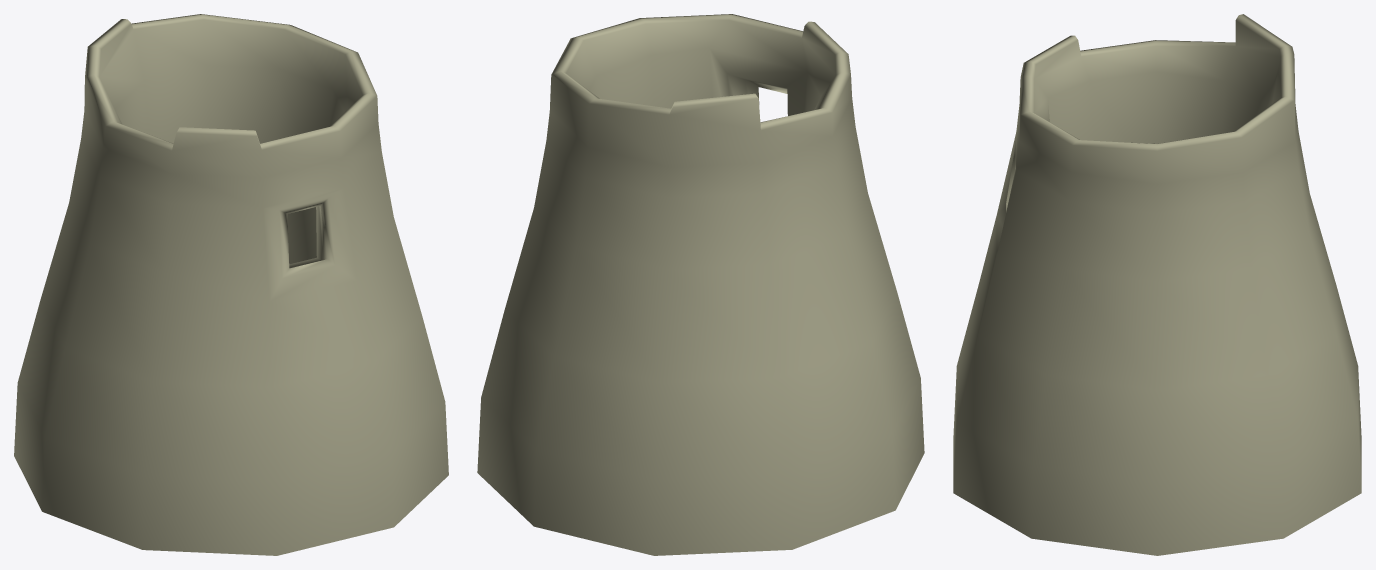
Rendered from Castle_Round_001.fbx.
The picture shows the model from 3 angles, left to right: view 1: azimuth 30°, elevation 25°; view 2: azimuth 150°, elevation 25°; view 3: azimuth 270°, elevation 25°; orthographic projection. The views are drawn at different scales.
Visible parts, largest first — view 1: Castle2; view 2: Castle2; view 3: Castle2.
Part boxes in pixels (left/top/right/bottom): Castle2: left=14, top=14, right=448, bottom=555; Castle2: left=477, top=14, right=924, bottom=555; Castle2: left=953, top=14, right=1361, bottom=555.
Size of the model in its own units: 13.04 by 13.57 by 12.4.
